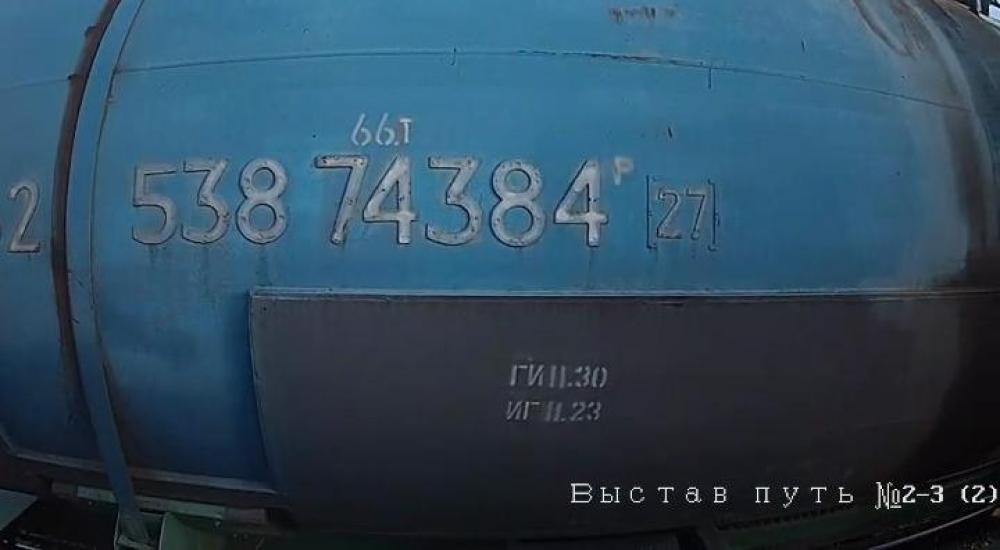Wagon-number: (121, 151, 611, 255)
